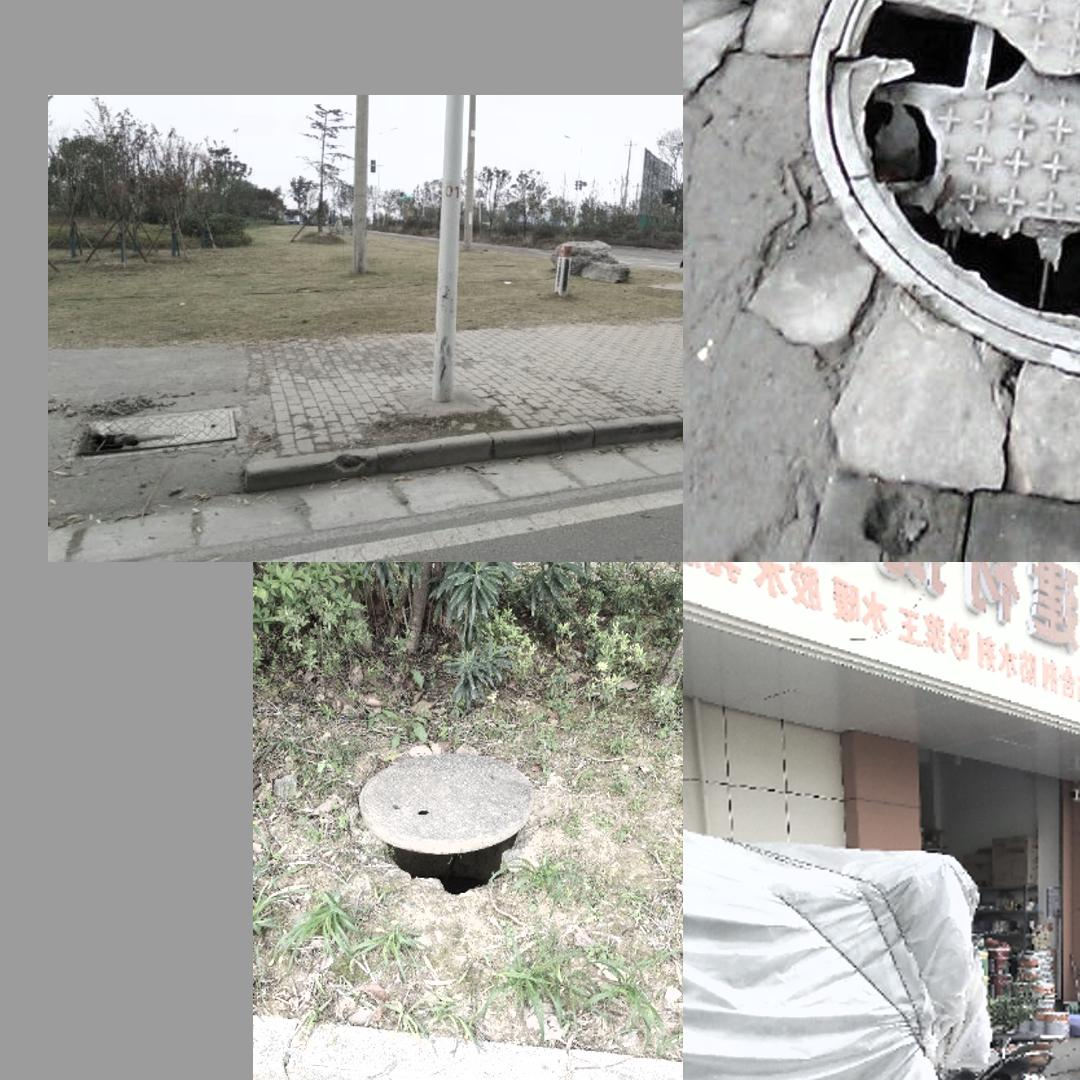broke: (775, 0, 1080, 468), (359, 751, 536, 857), (68, 412, 240, 448)
